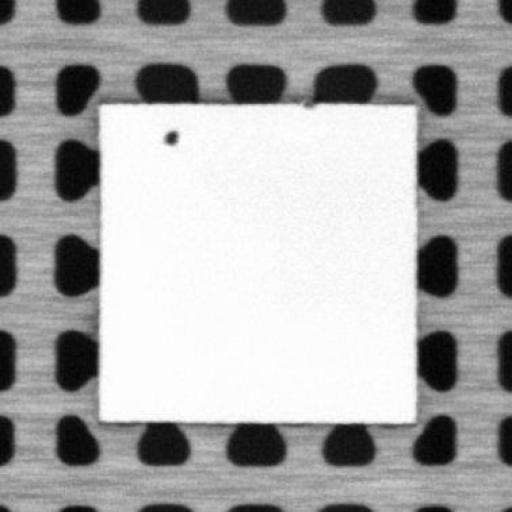DIE_INK: (160, 126, 179, 147)
